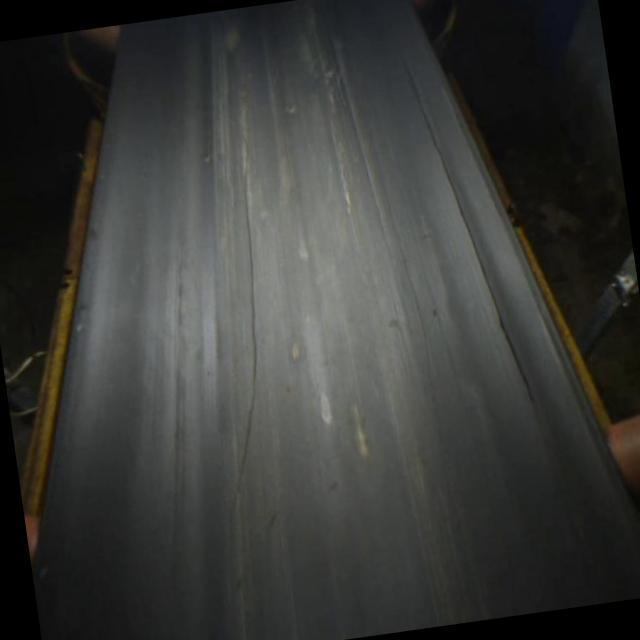Tear: (391, 43, 564, 480), (228, 166, 263, 504)
